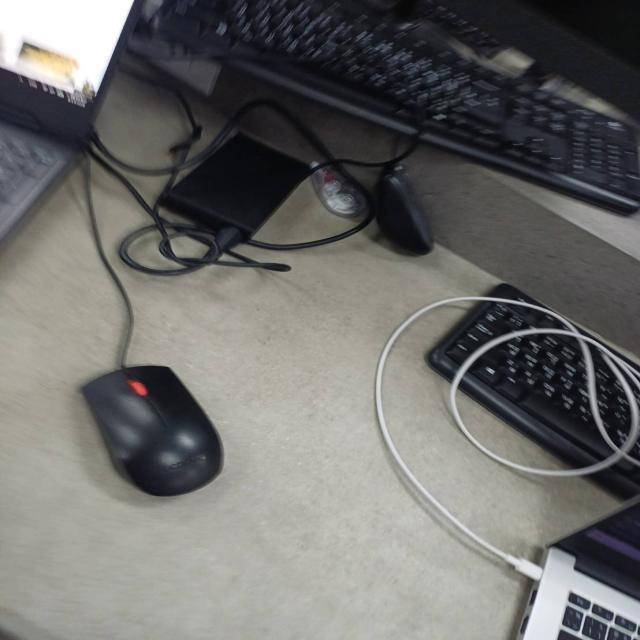mouse: (84, 360, 228, 502)
